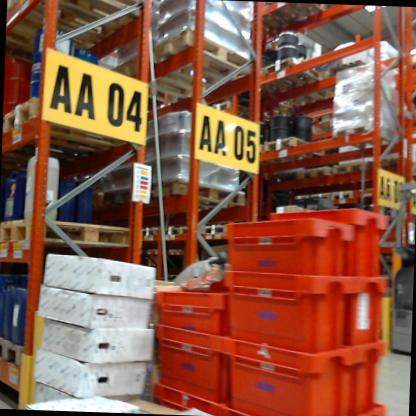forklift: (383, 163, 416, 360)
pallet: (148, 134, 320, 218), (4, 94, 119, 158), (152, 31, 253, 90), (2, 215, 135, 256), (8, 0, 149, 34), (255, 2, 320, 44), (328, 52, 386, 94), (266, 54, 319, 91), (332, 162, 374, 183), (0, 331, 22, 365), (137, 220, 160, 245), (302, 164, 332, 181), (199, 219, 226, 237), (169, 225, 194, 242), (309, 186, 331, 204), (330, 191, 355, 205), (294, 193, 311, 208)
small_load_carrier: (215, 269, 346, 362), (224, 333, 346, 416), (218, 214, 357, 275), (269, 210, 394, 277), (153, 316, 233, 392), (333, 339, 397, 416), (333, 275, 391, 356), (149, 285, 232, 340), (146, 378, 227, 414)
